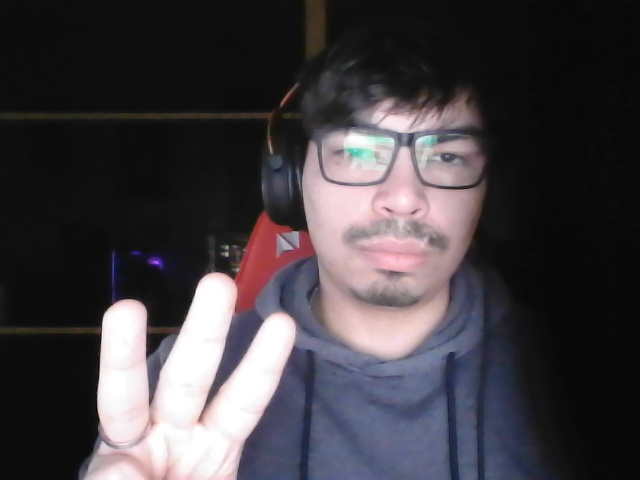three: (73, 270, 304, 480)
